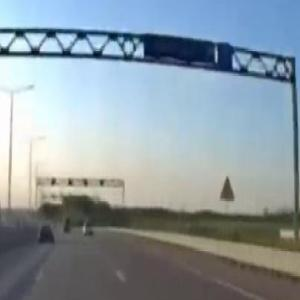severe: (0, 193, 4, 239)
